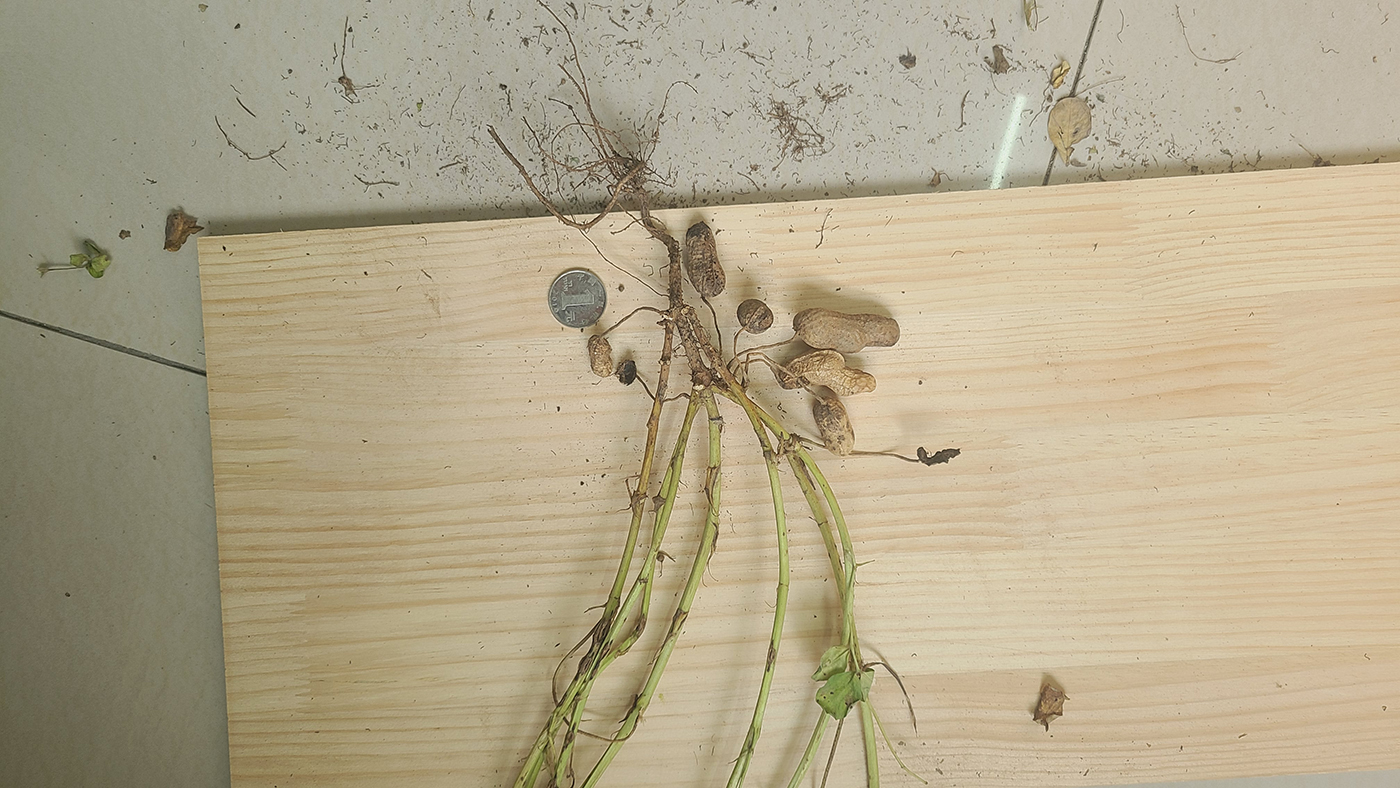h: (793, 308, 900, 352), (779, 351, 878, 397), (811, 396, 856, 456)
l: (684, 221, 727, 297), (737, 299, 774, 334), (587, 335, 613, 378), (614, 360, 638, 385)
